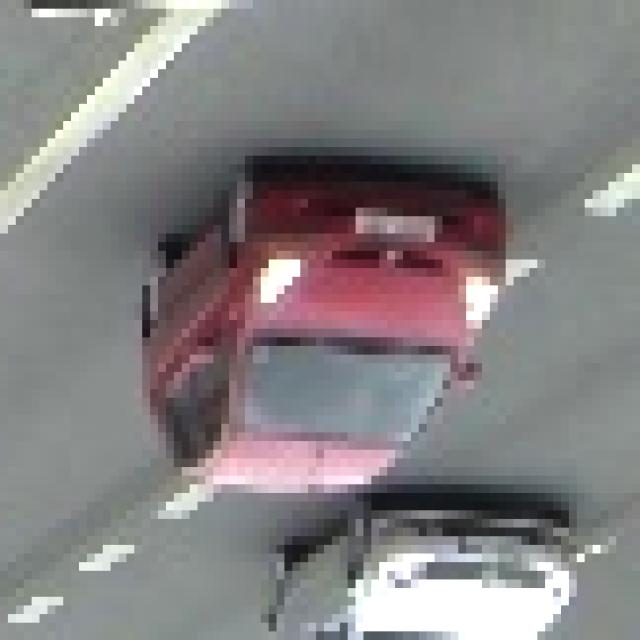red: (138, 166, 507, 498)
